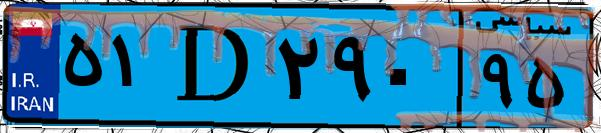0: (385, 28, 445, 110)
1: (110, 28, 158, 98)
2: (270, 28, 330, 110)
5: (57, 26, 110, 100), (525, 38, 570, 115)
9: (330, 28, 385, 110), (475, 38, 525, 113)
D: (158, 12, 270, 120)
